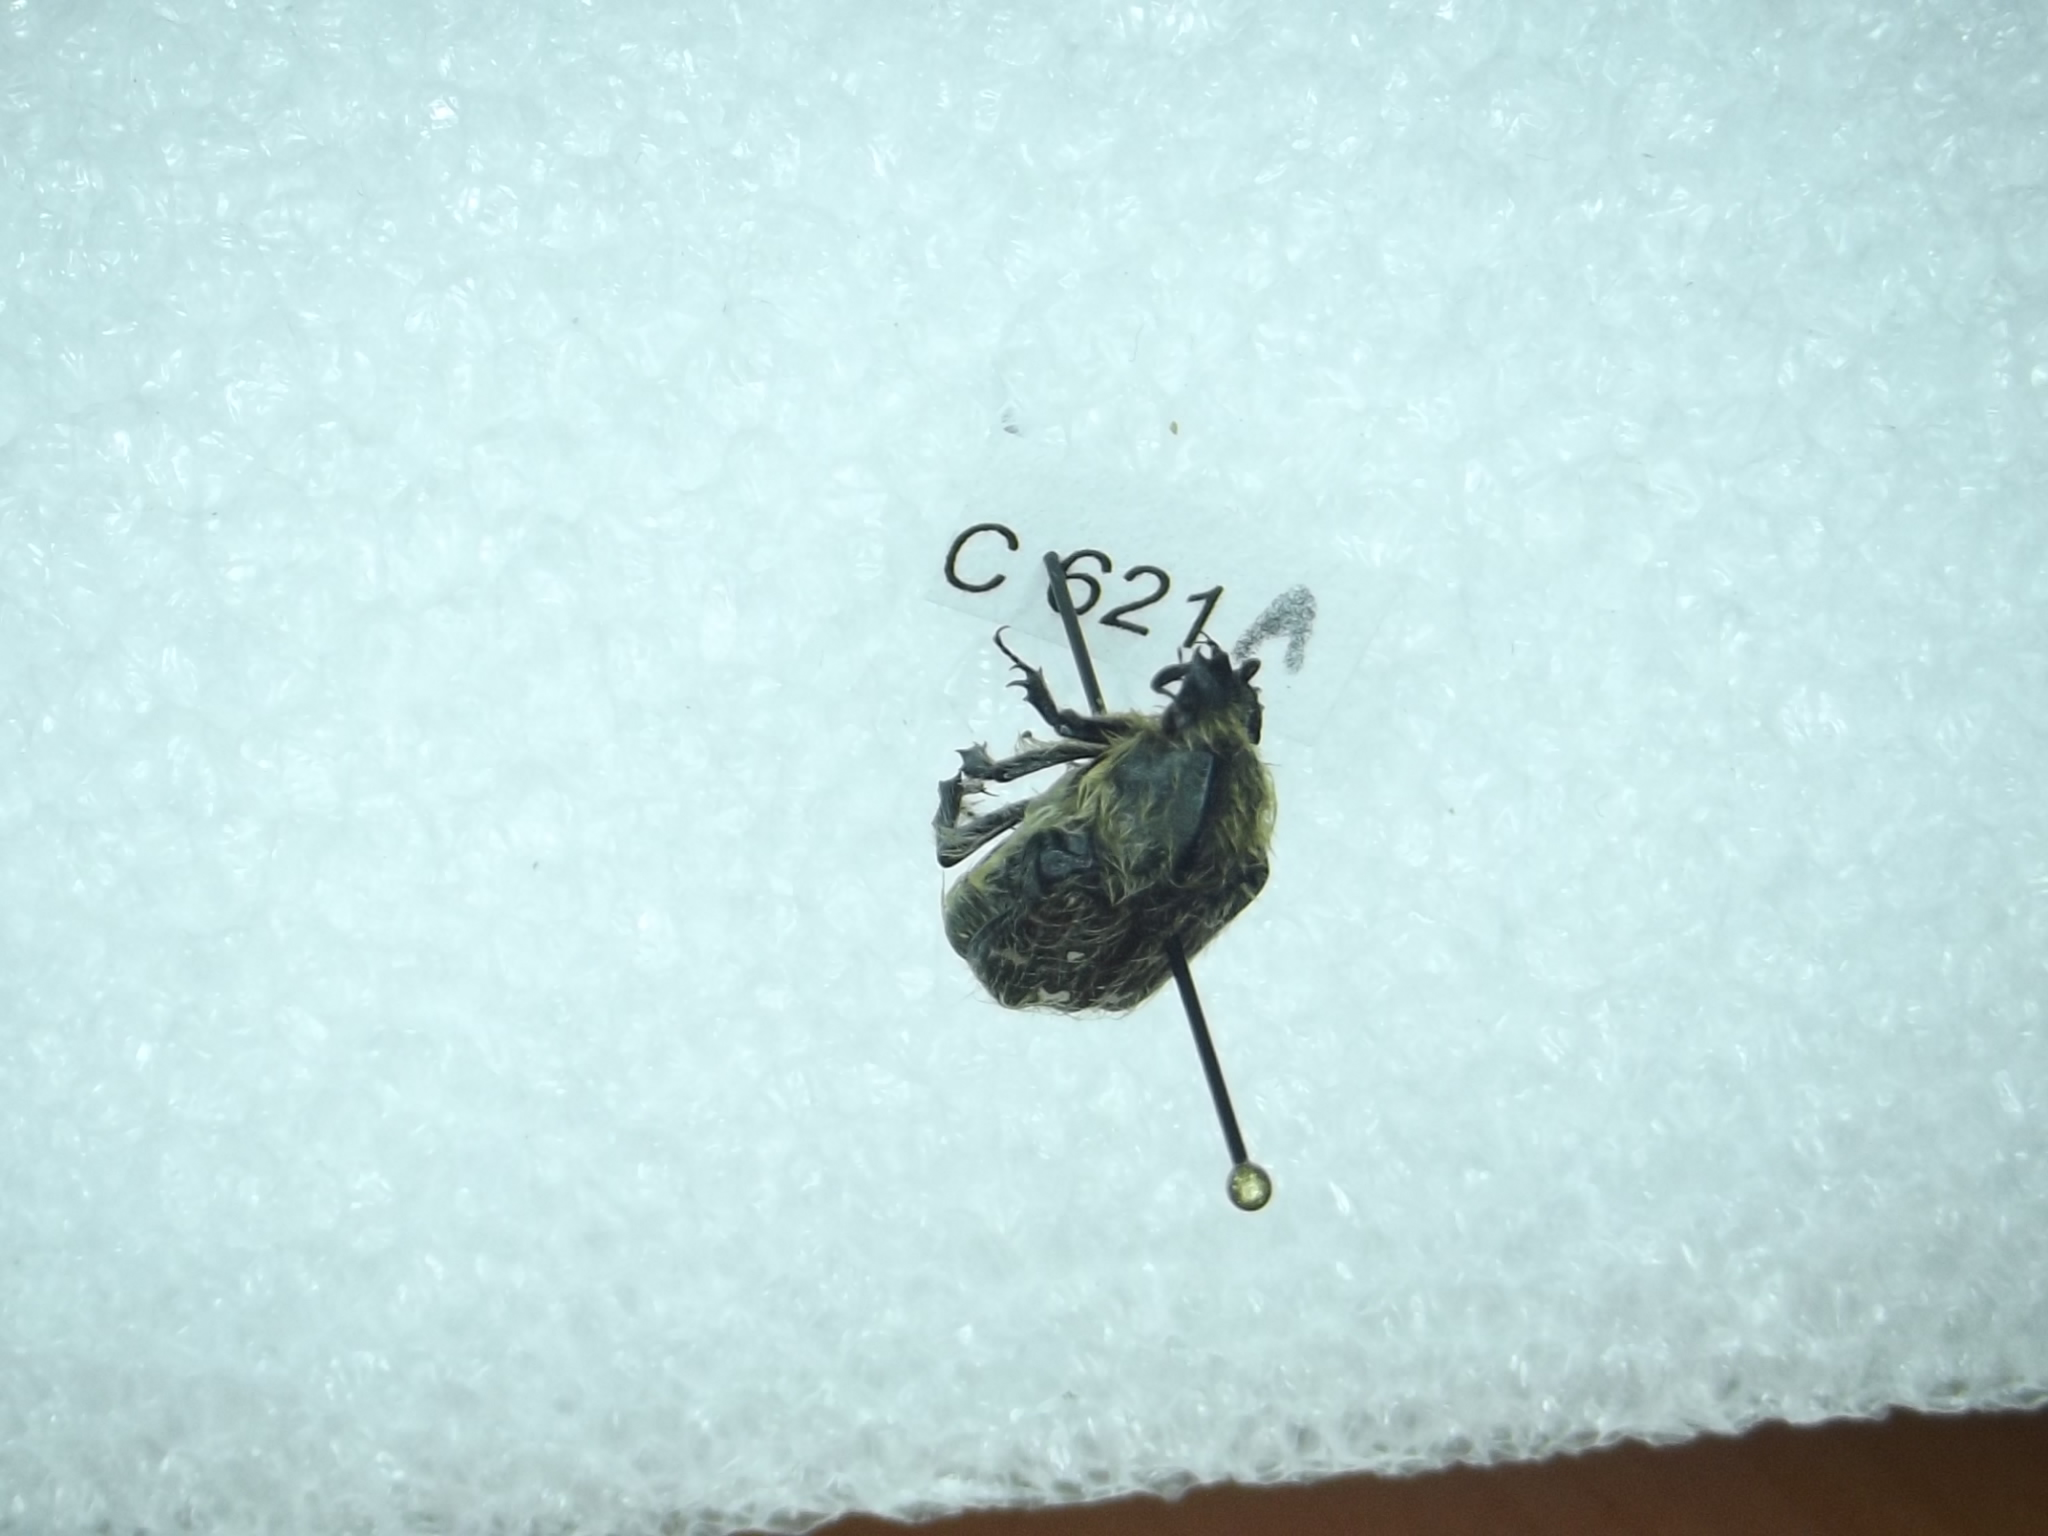Tropinota_senicula: (921, 623, 1295, 1084)
